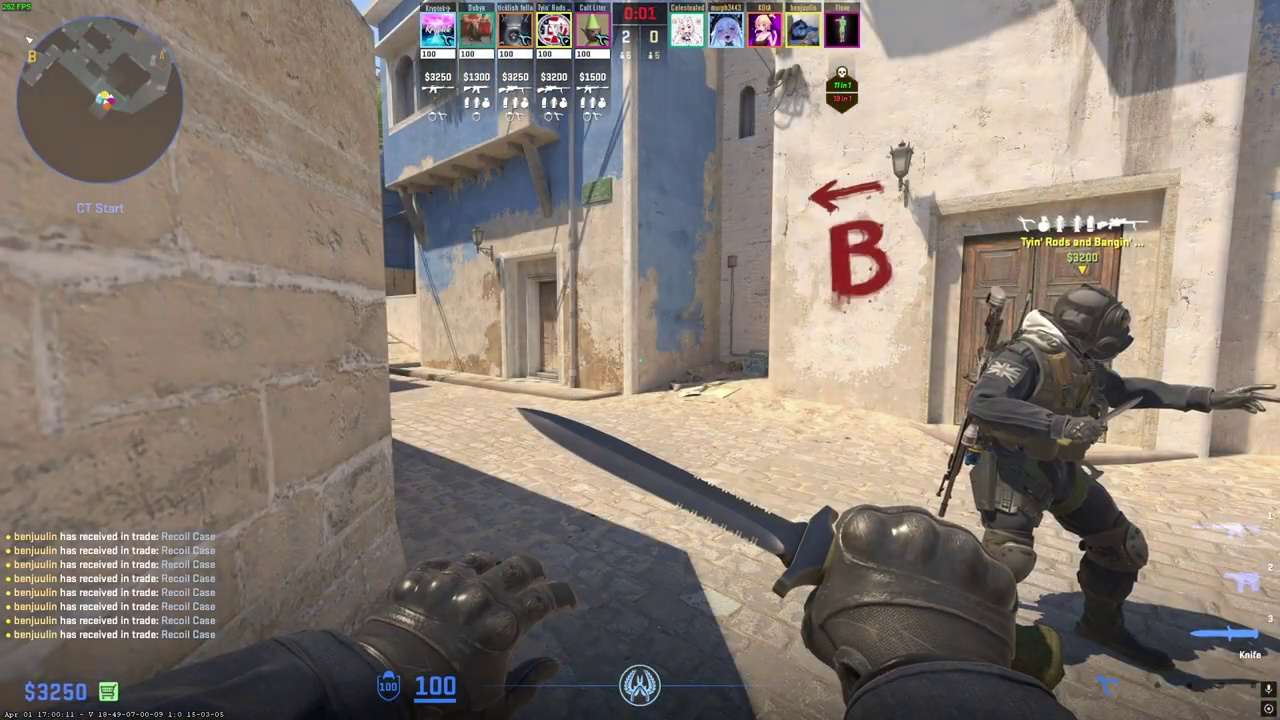CT: (969, 284, 1169, 666)
